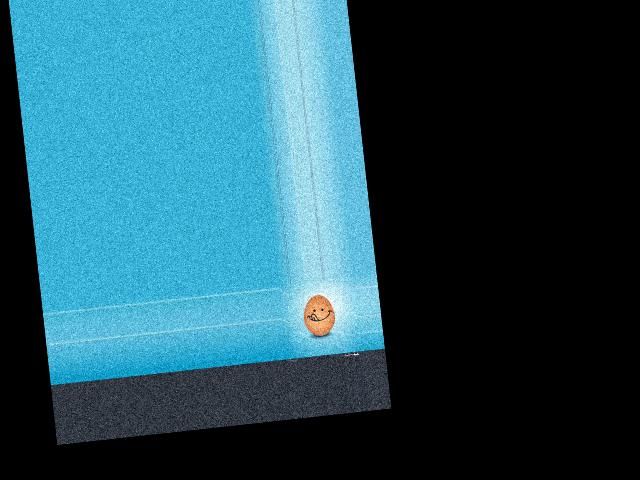egg: (301, 293, 336, 337)
